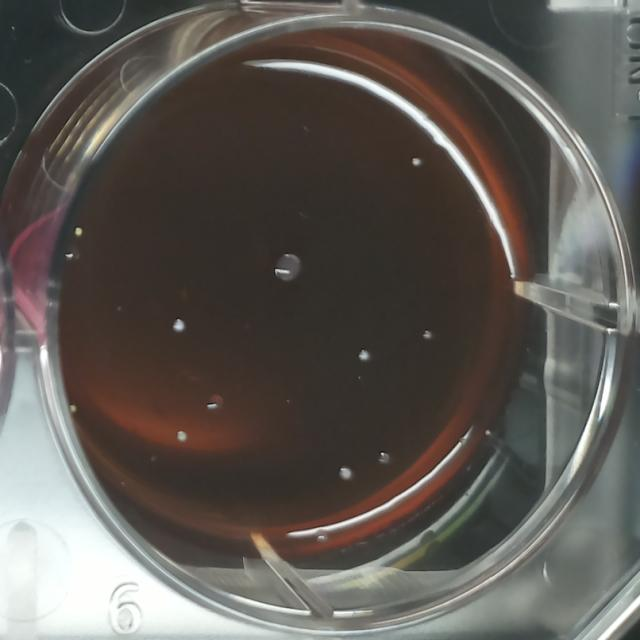Staphylococcus: (356, 346, 374, 366), (336, 464, 354, 484), (170, 316, 187, 335), (174, 428, 189, 444), (410, 155, 422, 169)
Vibrio: (202, 392, 226, 416), (60, 242, 83, 266)
